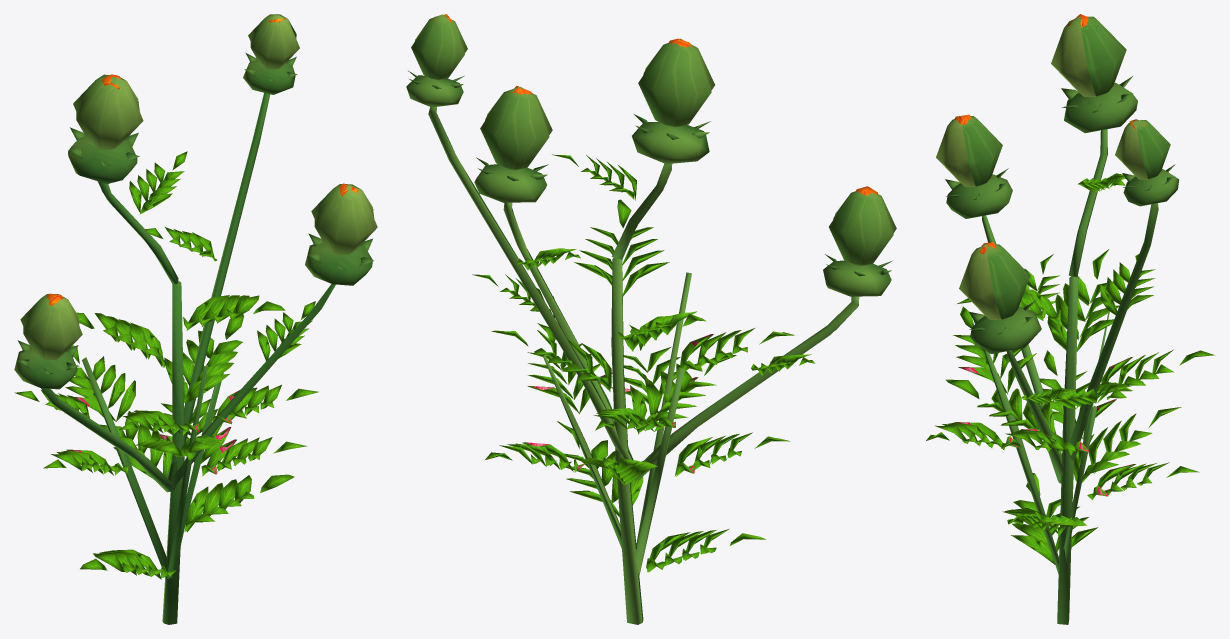
The model's file is NP_Marigold_BudForming_LOD1.fbx.
3 views of the same model, side by side, from view 1: azimuth 30°, elevation 25°; view 2: azimuth 150°, elevation 25°; view 3: azimuth 270°, elevation 25° (orthographic). The views are drawn at different scales.
Visible parts, largest first — view 1: NP_Marigold_BudForming; view 2: NP_Marigold_BudForming; view 3: NP_Marigold_BudForming.
Part boxes in pixels (x1=…): NP_Marigold_BudForming: x1=14, y1=14, x2=377, y2=624; NP_Marigold_BudForming: x1=406, y1=14, x2=896, y2=624; NP_Marigold_BudForming: x1=926, y1=14, x2=1214, y2=624.
Size of the model in its own units: 52.06 by 74.55 by 33.71.
